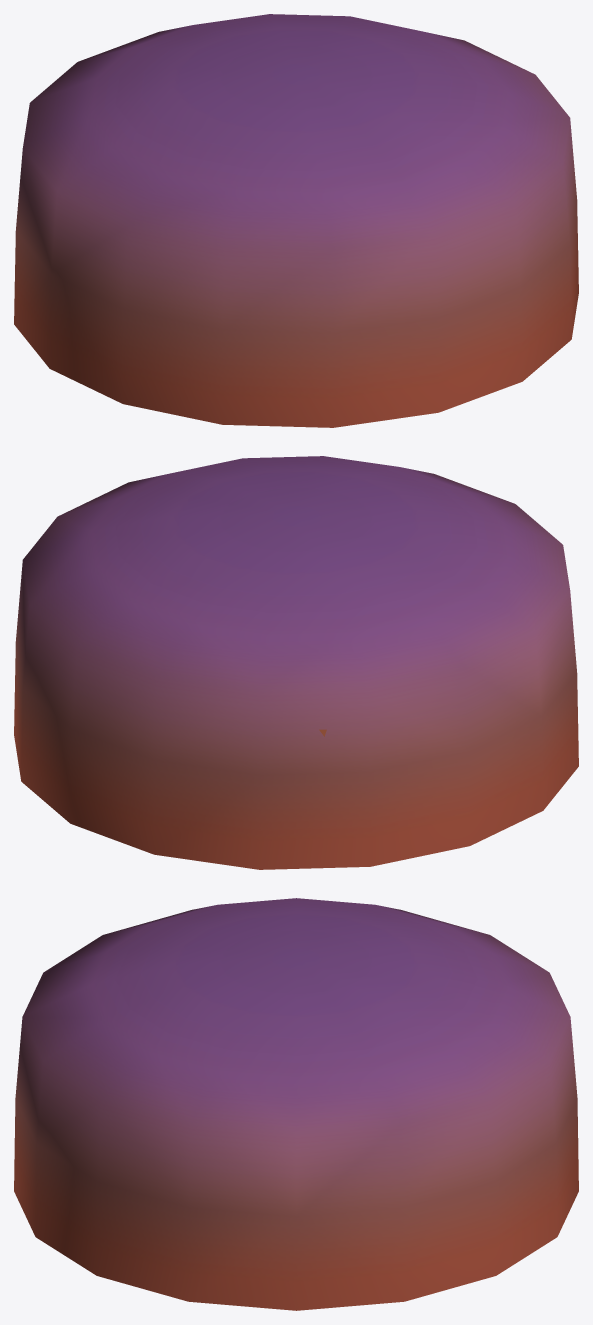
The model's file is skybox.obj.
3 renders of one model, top to bottom at view 1: azimuth 30°, elevation 25°; view 2: azimuth 150°, elevation 25°; view 3: azimuth 270°, elevation 25°, orthographic.
Parts seen in each view (by area): view 1: rdmobj00; view 2: rdmobj00; view 3: rdmobj00.
Boxes of the visible parts, left/top/right/bottom form: rdmobj00: left=14, top=14, right=578, bottom=427; rdmobj00: left=14, top=456, right=578, bottom=869; rdmobj00: left=14, top=898, right=578, bottom=1310.
Size of the model in its own units: 699474 by 319442 by 698402.
Materials: 3 (3 with a texture image).
